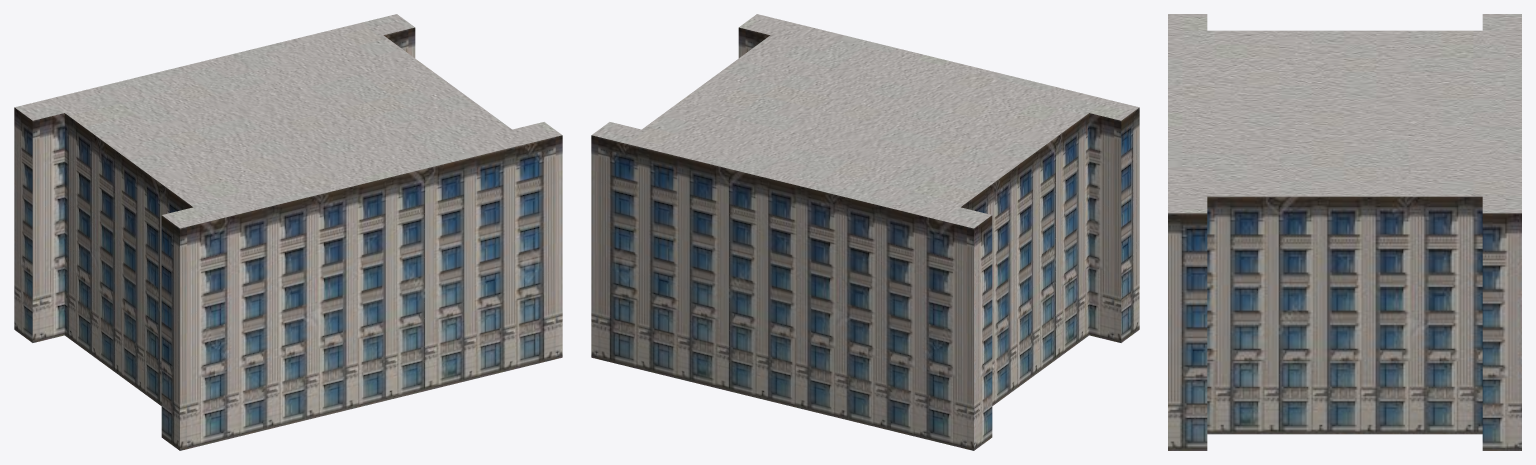
Rendered from building_035.fbx.
3 views of the same model, side by side, from view 1: azimuth 30°, elevation 25°; view 2: azimuth 150°, elevation 25°; view 3: azimuth 270°, elevation 25° (orthographic). The views are drawn at different scales.
Visible parts, largest first — view 1: building_035; view 2: building_035; view 3: building_035.
Boxes of the visible parts, <box> form: building_035: <box>14,14,562,450</box>; building_035: <box>591,14,1139,450</box>; building_035: <box>1168,14,1521,450</box>.
Bounding box in the file's own units: 1800 × 1000 × 1350.
